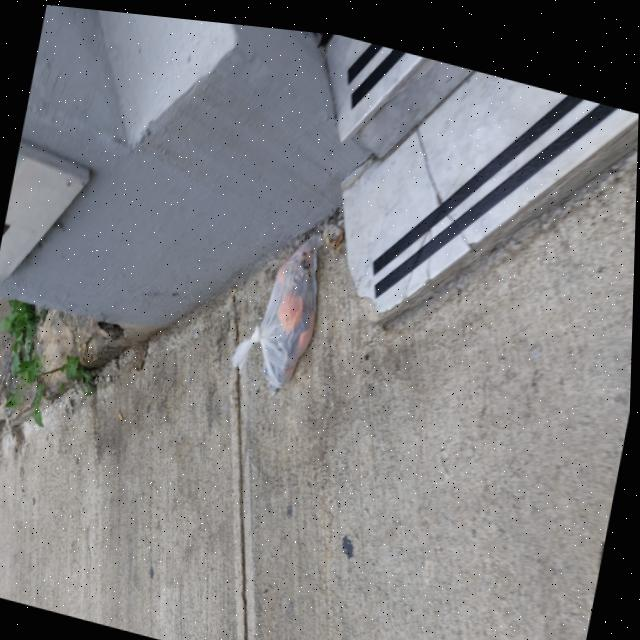Organic Waste -White Bag-: (226, 205, 340, 415)
